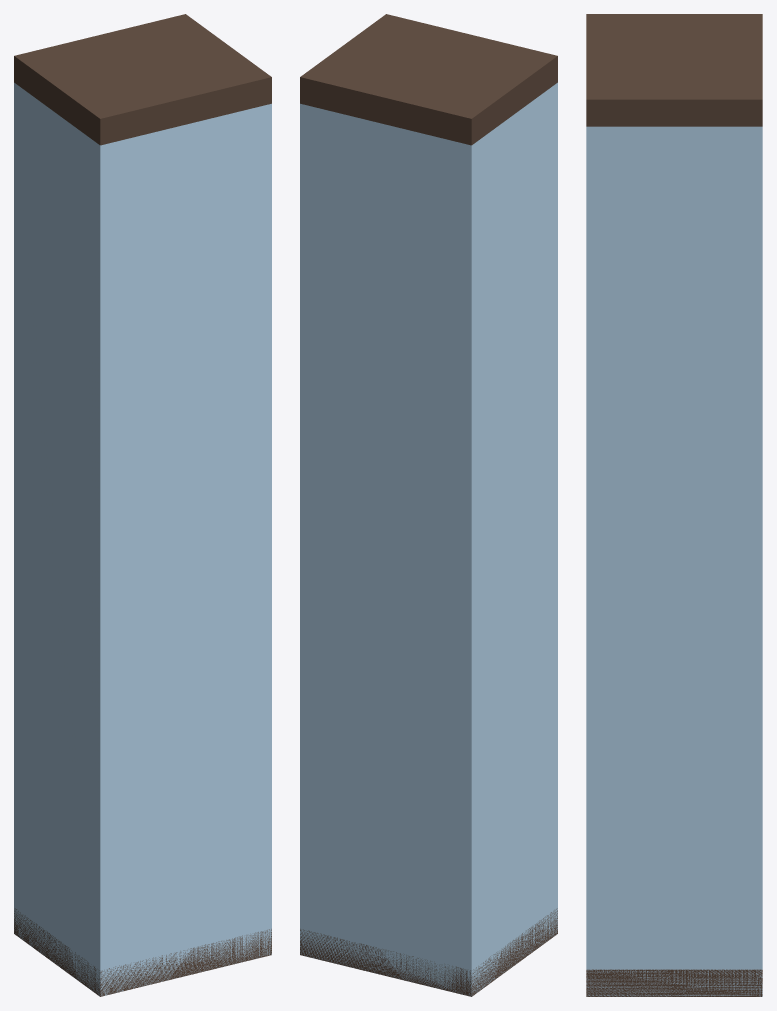
Rendered from glass-export-test.glb.
3 renders of one model, left to right at view 1: azimuth 30°, elevation 25°; view 2: azimuth 150°, elevation 25°; view 3: azimuth 270°, elevation 25°, orthographic. The views are drawn at different scales.
Parts seen in each view (by area): view 1: Cube.001; view 2: Cube.001; view 3: Cube.001.
Part boxes in pixels (box(x1,y1,x2,y2)): Cube.001: box(14, 14, 271, 996); Cube.001: box(300, 14, 557, 996); Cube.001: box(586, 14, 762, 996).
Size of the model in its own units: 11.4 by 55.76 by 9.92.
